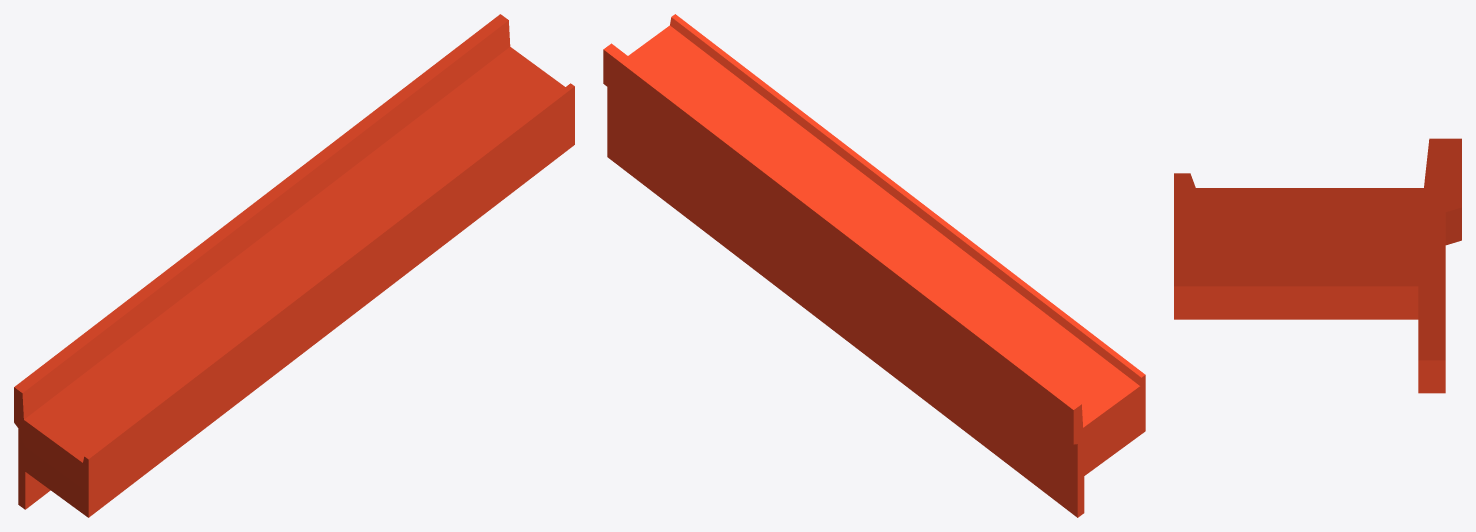
File: roof-metal-moderate-2m-front.fbx
3 views of the same model, side by side, from view 1: azimuth 30°, elevation 25°; view 2: azimuth 150°, elevation 25°; view 3: azimuth 270°, elevation 25° (orthographic). The views are drawn at different scales.
Parts seen in each view (by area): view 1: roof-metal-moderate-2m-front; view 2: roof-metal-moderate-2m-front; view 3: roof-metal-moderate-2m-front.
Boxes of the visible parts, x1,y1,x2,y2 form: roof-metal-moderate-2m-front: [14, 14, 574, 517]; roof-metal-moderate-2m-front: [603, 14, 1145, 517]; roof-metal-moderate-2m-front: [1174, 138, 1461, 393].
Size of the model in its own units: 2 by 1.45 by 0.5301.
